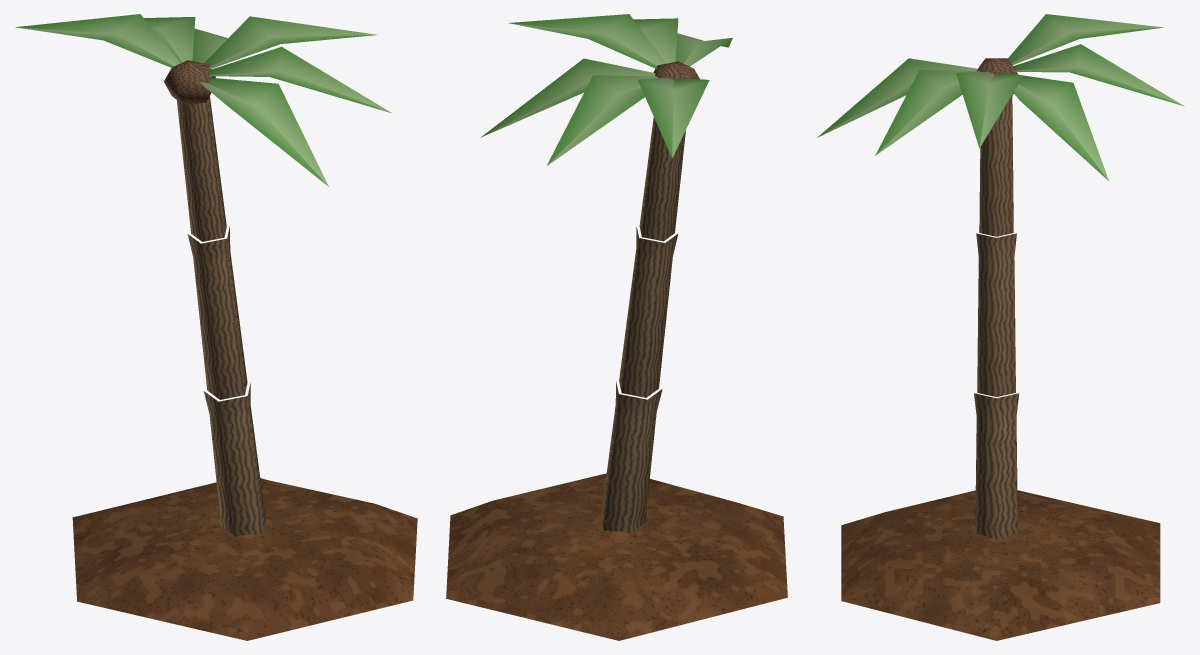
The model's file is plant-coconut-1-far.glb.
The picture shows the model from 3 angles, left to right: view 1: azimuth 30°, elevation 25°; view 2: azimuth 150°, elevation 25°; view 3: azimuth 270°, elevation 25°; orthographic projection. The views are drawn at different scales.
Parts seen in each view (by area): view 1: plant-coconut-1-far; view 2: plant-coconut-1-far; view 3: plant-coconut-1-far.
Part boxes in pixels (x1,y1,x2,y2): plant-coconut-1-far: (15, 14, 417, 640); plant-coconut-1-far: (446, 14, 787, 640); plant-coconut-1-far: (817, 14, 1184, 640).
Size of the model in its own units: 1 by 1.48 by 1.
Materials: 3 (2 with a texture image).
